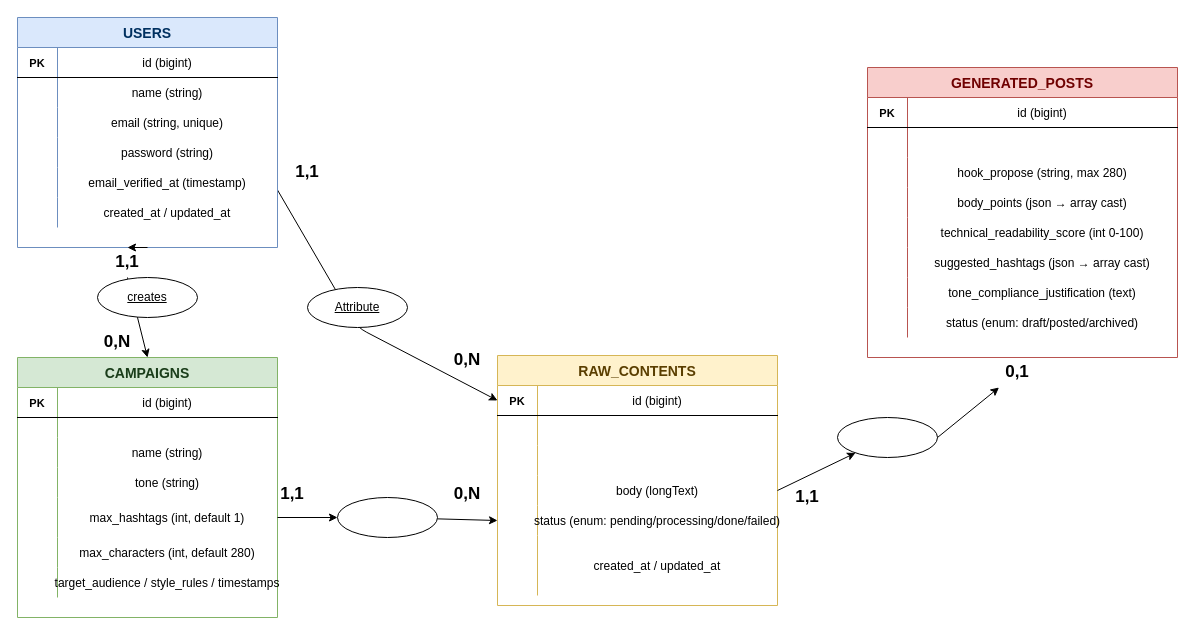
This 1195x635 diagram has some shape labels left out. Here are the shapes that lost their labels. From the top down, the centre of each, then its label:
At point (887, 437): "Produce".
At point (387, 517): "structure".
